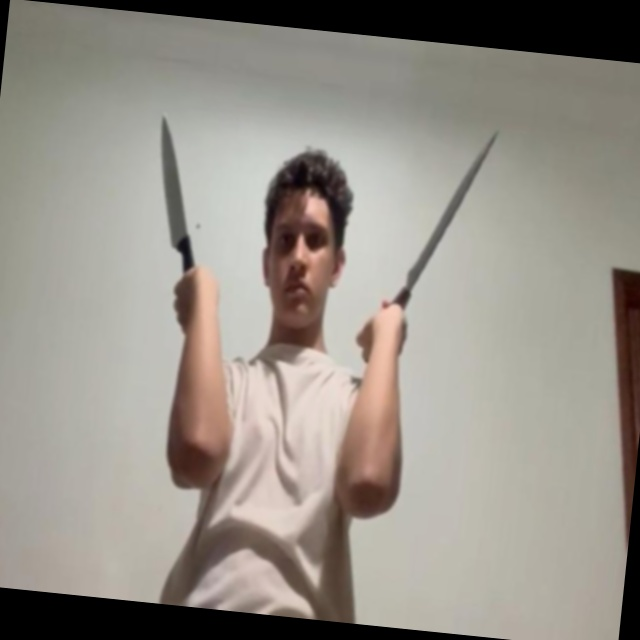Sharp-Object: (406, 124, 498, 298), (150, 113, 197, 239)
